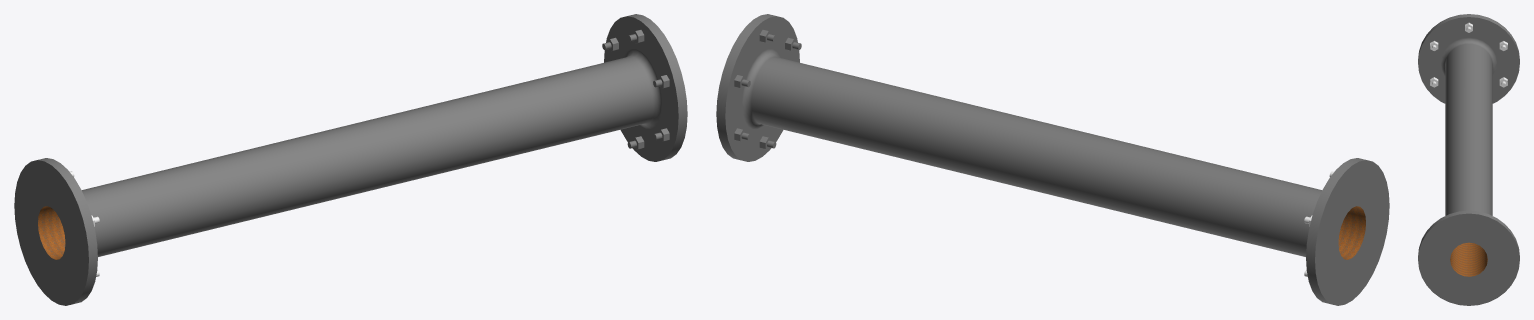
The picture shows the model from 3 angles, left to right: view 1: azimuth 30°, elevation 25°; view 2: azimuth 150°, elevation 25°; view 3: azimuth 270°, elevation 25°; orthographic projection. The views are drawn at different scales.
Visible parts, largest first — view 1: Volumenkörper1; view 2: Volumenkörper1; view 3: Volumenkörper1.
Part boxes in pixels (x1,y1,x2,y2): Volumenkörper1: (14,14,687,305); Volumenkörper1: (716,14,1389,305); Volumenkörper1: (1418,14,1519,305).
Size of the model in its own units: 1 by 0.216 by 0.216.
Materials: 3 (1 with a texture image).
